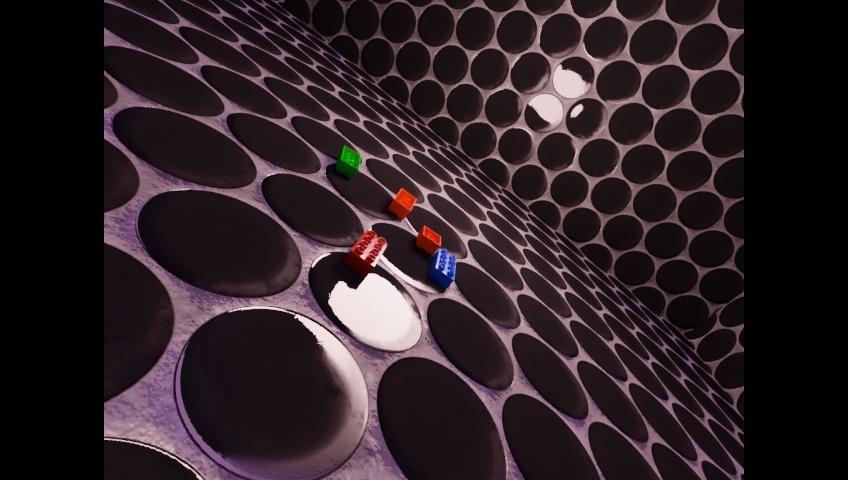2x2_orange: (416, 225, 441, 254)
4x2_blue: (428, 247, 456, 289)
4x2_green: (335, 145, 359, 178)
4x2_orange: (389, 188, 416, 219)
4x2_red: (343, 230, 386, 279)
